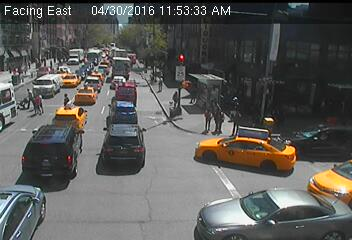neg: (216, 142, 243, 178), (106, 34, 124, 58), (277, 97, 295, 120), (102, 105, 117, 125), (108, 75, 122, 94), (173, 40, 187, 59), (132, 161, 146, 179), (90, 59, 102, 75), (72, 153, 84, 168), (236, 39, 247, 55), (63, 54, 74, 69), (35, 47, 44, 58), (145, 43, 152, 53)
pos: (193, 106, 222, 144), (208, 108, 229, 136), (166, 89, 186, 116), (226, 93, 245, 119), (30, 93, 49, 117), (22, 86, 37, 107), (58, 90, 72, 108), (154, 73, 165, 88)
